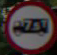Heavy Vehicles: (5, 4, 52, 45)
